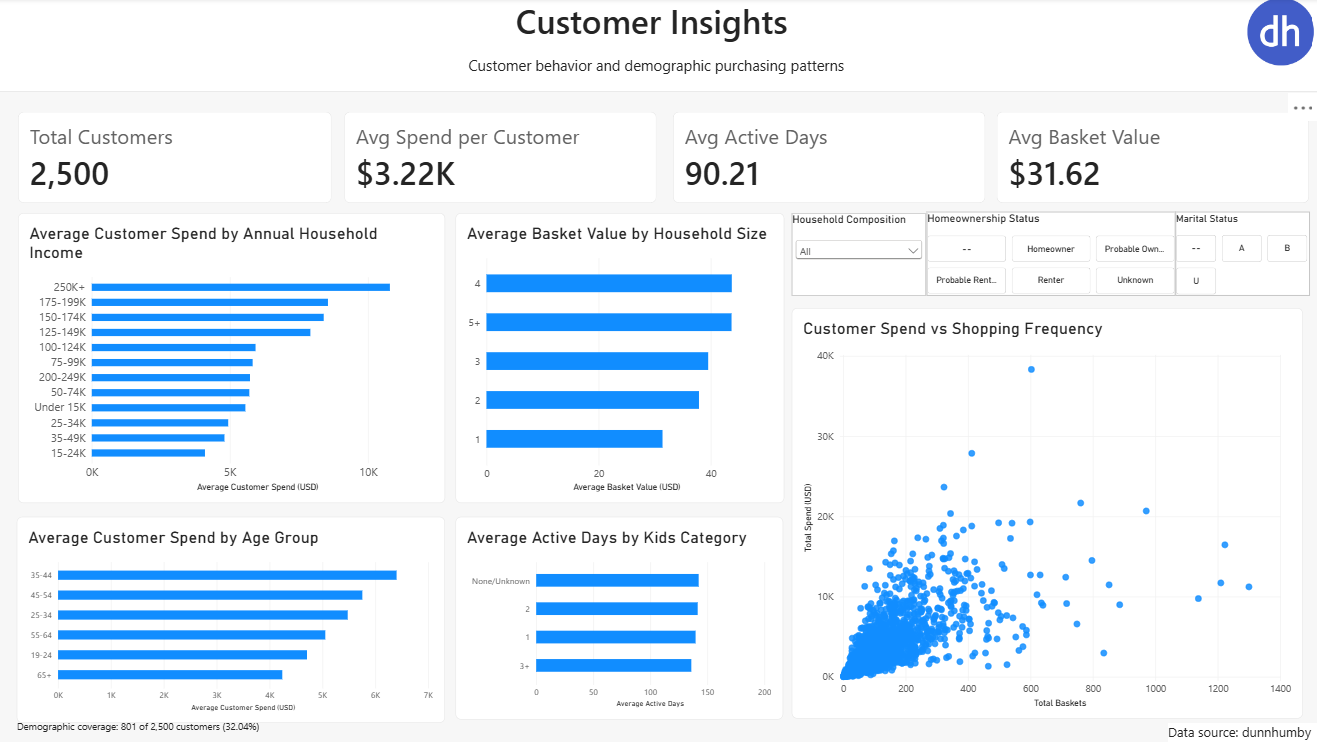

This screenshot's page, from the dashboard's own definition file:
{"tool":"powerbi","page":{"name":"Customer Insights","canvas":[1920,1080],"ordinal":1},"visuals":[{"type":"cardVisual","fields":{"Data":["Count(customer_360.household_key)"]},"box":[36,164,454,132],"z":0},{"type":"cardVisual","fields":{"Data":["Avg(customer_360.total_spend)"]},"box":[508,164,452,132],"z":1000},{"type":"cardVisual","fields":{"Data":["Avg(customer_360.avg_basket_value)"]},"box":[1454,164,452,132],"z":2000},{"type":"cardVisual","fields":{"Data":["Avg(customer_360.active_days)"]},"box":[984,164,452,132],"z":3000},{"type":"clusteredBarChart","title":"Average Customer Spend by Annual Household Income","fields":{"Category":["customer_360.INCOME_DESC"],"Y":["Avg(customer_360.total_spend)"]},"box":[36,312,618,420],"z":4000},{"type":"clusteredBarChart","title":"Average Customer Spend by Age Group","fields":{"Category":["customer_360.AGE_DESC"],"Y":["Avg(customer_360.total_spend)"]},"box":[35.1,750.3,619.8,298.6],"z":5000},{"type":"clusteredBarChart","title":"Average Basket Value by Household Size","fields":{"Category":["customer_360.HOUSEHOLD_SIZE_DESC"],"Y":["Avg(customer_360.avg_basket_value)"]},"box":[670,312,476,420],"z":6000},{"type":"clusteredBarChart","title":"Average Active Days by Kids Category","fields":{"Category":["customer_360.KID_CATEGORY_DESC"],"Y":["Avg(customer_360.active_days)"]},"box":[670,750.3,474.3,293.6],"z":7000},{"type":"scatterChart","title":"Customer Spend vs Shopping Frequency","fields":{"X":["customer_360.total_baskets"],"Y":["customer_360.total_spend"]},"box":[1156.8,449.2,740.3,594.7],"z":8000},{"type":"advancedSlicerVisual","title":"Homeownership Status","fields":{"Values":["customer_360.HOMEOWNER_DESC"]},"box":[1351.4,310,360,121.4],"z":9000},{"type":"advancedSlicerVisual","title":"Marital Status","fields":{"Values":["customer_360.MARITAL_STATUS_CODE"]},"box":[1711.4,310,194.3,121.4],"z":10000},{"type":"slicer","title":"Household Composition","fields":{"Values":["customer_360.HH_COMP_DESC"]},"box":[1157.1,311.4,194.3,120],"z":11000},{"type":"textbox","box":[0,0,1920.4,135.8],"z":12000},{"type":"image","box":[1809.2,0,110.4,97.9],"z":13000},{"type":"textbox","box":[1701.3,1048.9,218.2,30.9],"z":14000},{"type":"textbox","box":[35.1,1043.9,540,36],"z":14001}]}

Visuals, with their boxes in screenshot pixels (x1, y1, x2, y2), scaled from the page's 1920x1080 canvas onto the 1317x742 screenshot:
cardVisual - Count(customer_360.household_key): x1=25 y1=113 x2=336 y2=203
cardVisual - Avg(customer_360.total_spend): x1=348 y1=113 x2=658 y2=203
cardVisual - Avg(customer_360.avg_basket_value): x1=997 y1=113 x2=1307 y2=203
cardVisual - Avg(customer_360.active_days): x1=675 y1=113 x2=985 y2=203
"Average Customer Spend by Annual Household Income" clusteredBarChart: x1=25 y1=214 x2=449 y2=503
"Average Customer Spend by Age Group" clusteredBarChart: x1=24 y1=515 x2=449 y2=721
"Average Basket Value by Household Size" clusteredBarChart: x1=460 y1=214 x2=786 y2=503
"Average Active Days by Kids Category" clusteredBarChart: x1=460 y1=515 x2=785 y2=717
"Customer Spend vs Shopping Frequency" scatterChart: x1=793 y1=309 x2=1301 y2=717
"Homeownership Status" advancedSlicerVisual: x1=927 y1=213 x2=1174 y2=296
"Marital Status" advancedSlicerVisual: x1=1174 y1=213 x2=1307 y2=296
"Household Composition" slicer: x1=794 y1=214 x2=927 y2=296
textbox: x1=0 y1=0 x2=1316 y2=93
image: x1=1241 y1=0 x2=1316 y2=67
textbox: x1=1167 y1=721 x2=1316 y2=741
textbox: x1=24 y1=717 x2=394 y2=741
